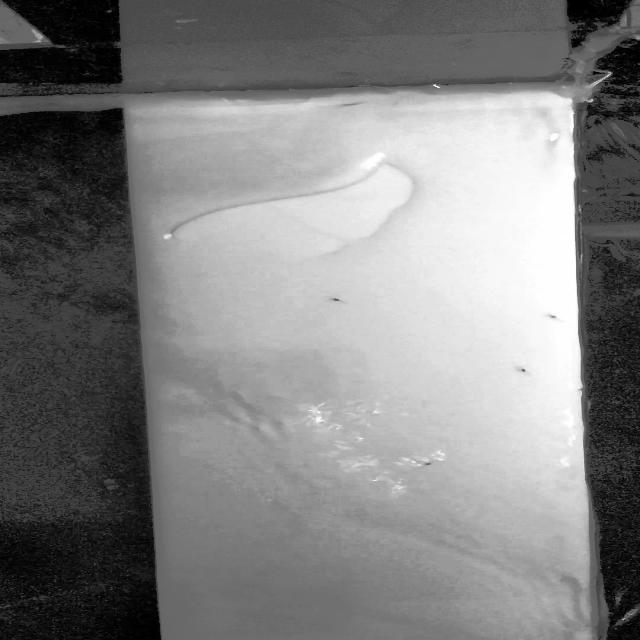shrimp: (509, 361, 539, 377), (542, 310, 570, 325), (328, 293, 352, 306), (423, 460, 444, 468)
